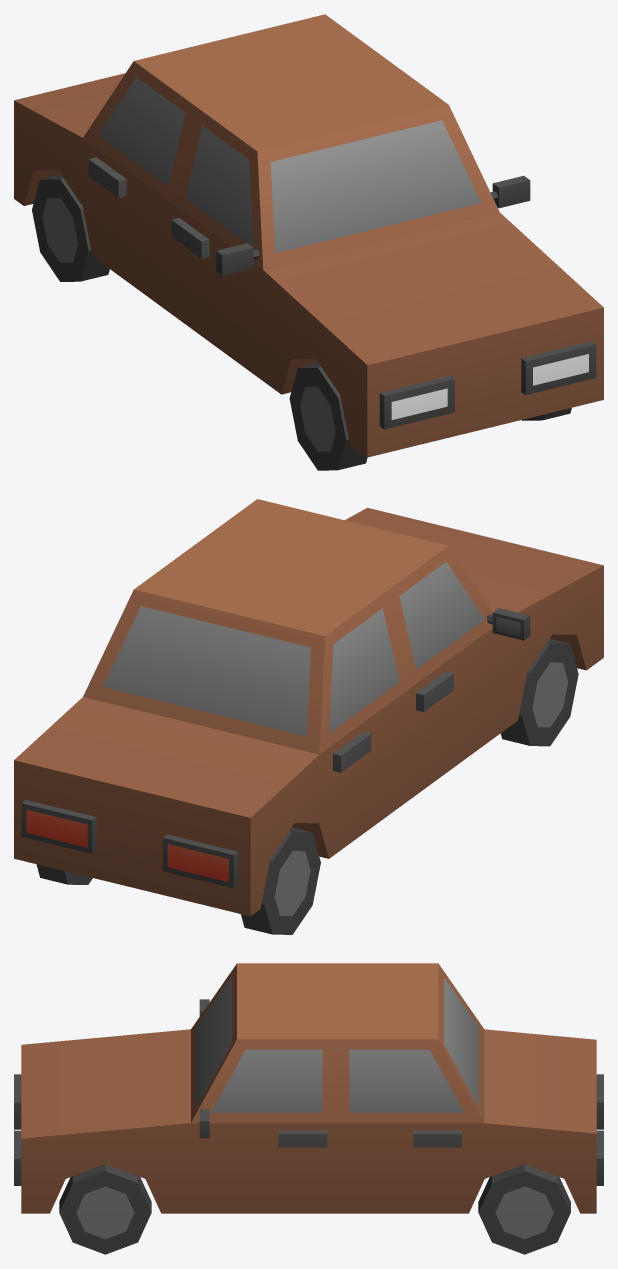
File: sedan car brown.fbx
3 views of the same model, one above another, from view 1: azimuth 30°, elevation 25°; view 2: azimuth 150°, elevation 25°; view 3: azimuth 270°, elevation 25° (orthographic). The views are drawn at different scales.
Parts seen in each view (by area): view 1: sedan car body, rear wheels, front wheel left; view 2: sedan car body, rear wheels, front wheel left; view 3: sedan car body, rear wheels, front wheel right.
Boxes of the visible parts, x1=… form: sedan car body: x1=14, y1=14, x2=603, y2=457; rear wheels: x1=32, y1=174, x2=109, y2=281; front wheel left: x1=289, y1=363, x2=367, y2=470; sedan car body: x1=14, y1=499, x2=603, y2=916; rear wheels: x1=36, y1=827, x2=320, y2=934; front wheel left: x1=500, y1=638, x2=578, y2=746; sedan car body: x1=14, y1=963, x2=603, y2=1213; rear wheels: x1=478, y1=1164, x2=570, y2=1254; front wheel right: x1=59, y1=1164, x2=151, y2=1254.
Bounding box in the file's own units: 186 × 147 × 379.
